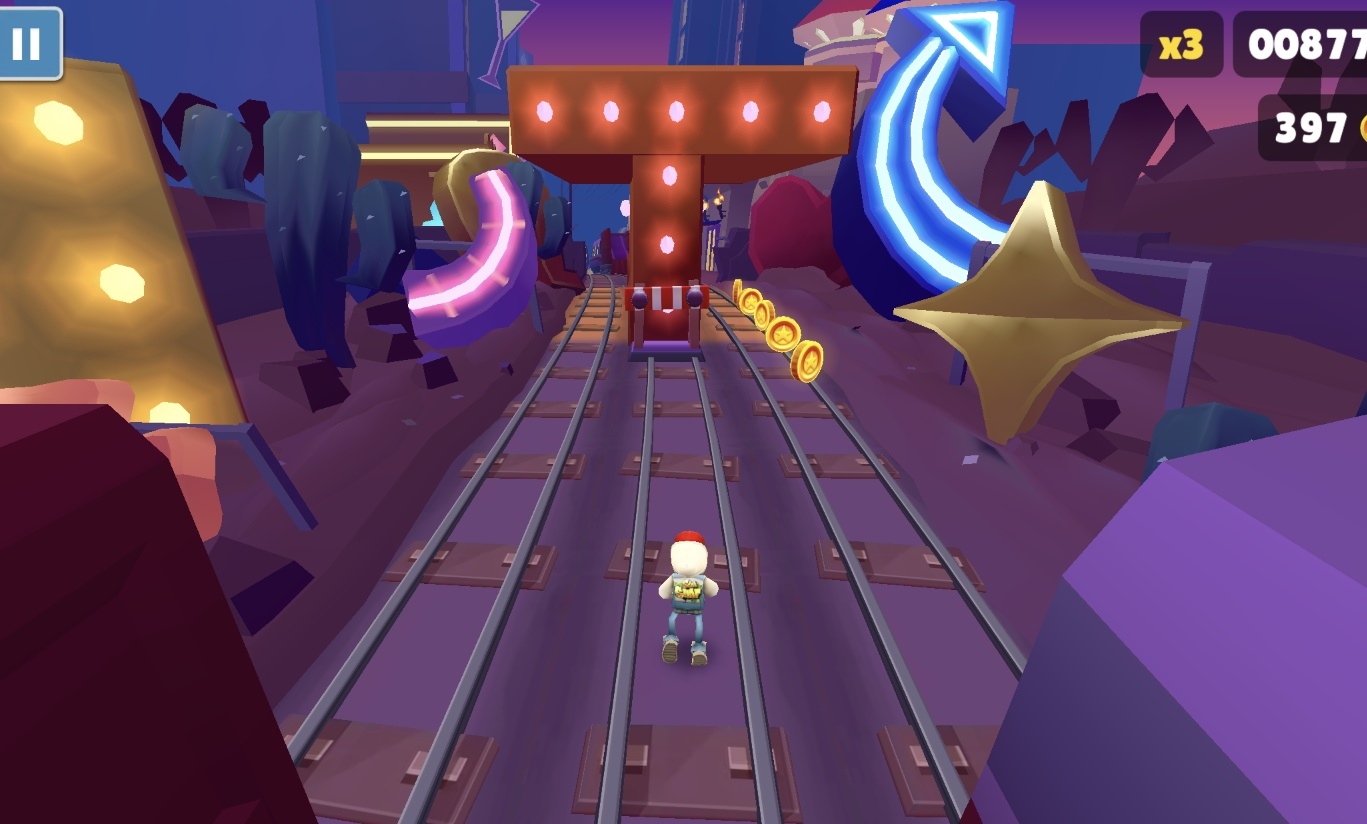ground_barrier: (621, 282, 710, 364)
pillar: (626, 154, 705, 347)
train: (968, 397, 1367, 824), (0, 404, 318, 824)
